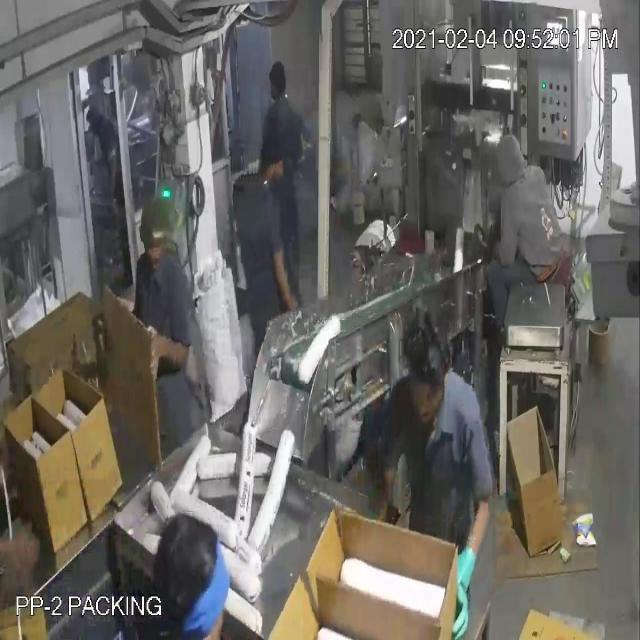No_Gloves: (23, 78, 462, 582)
